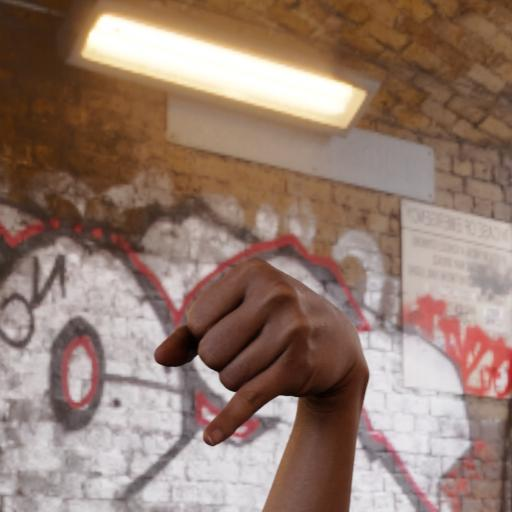J: (148, 250, 367, 452)
